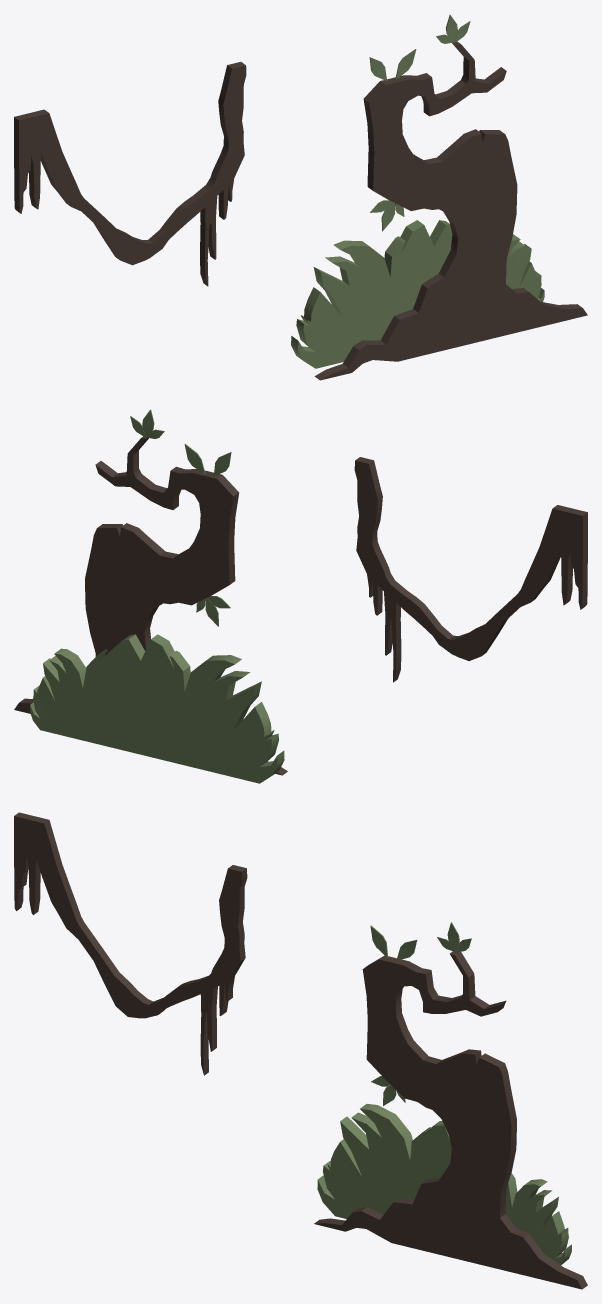
File: Tree_4.fbx
3 views of the same model, one above another, from view 1: azimuth 30°, elevation 25°; view 2: azimuth 150°, elevation 25°; view 3: azimuth 330°, elevation 25° (orthographic).
Parts seen in each view (by area): view 1: pCube61, pCube72, pCube60; view 2: pCube72, pCube61, pCube60; view 3: pCube61, pCube72, pCube60.
Part boxes in pixels (x1,y1,x2,y2): pCube61: (314,41,587,380); pCube72: (291,220,544,368); pCube60: (14,62,246,286); pCube72: (30,634,284,783); pCube61: (14,436,287,775); pCube60: (354,457,587,682); pCube61: (314,951,587,1289); pCube72: (317,1104,571,1264); pCube60: (14,812,247,1075).
Size of the model in its own units: 2.31 by 1.29 by 0.1423.
